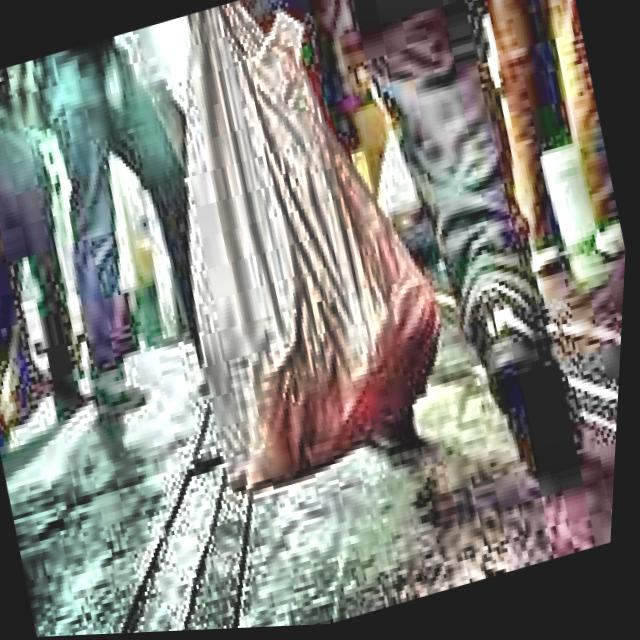Plastic: (105, 0, 496, 532)
